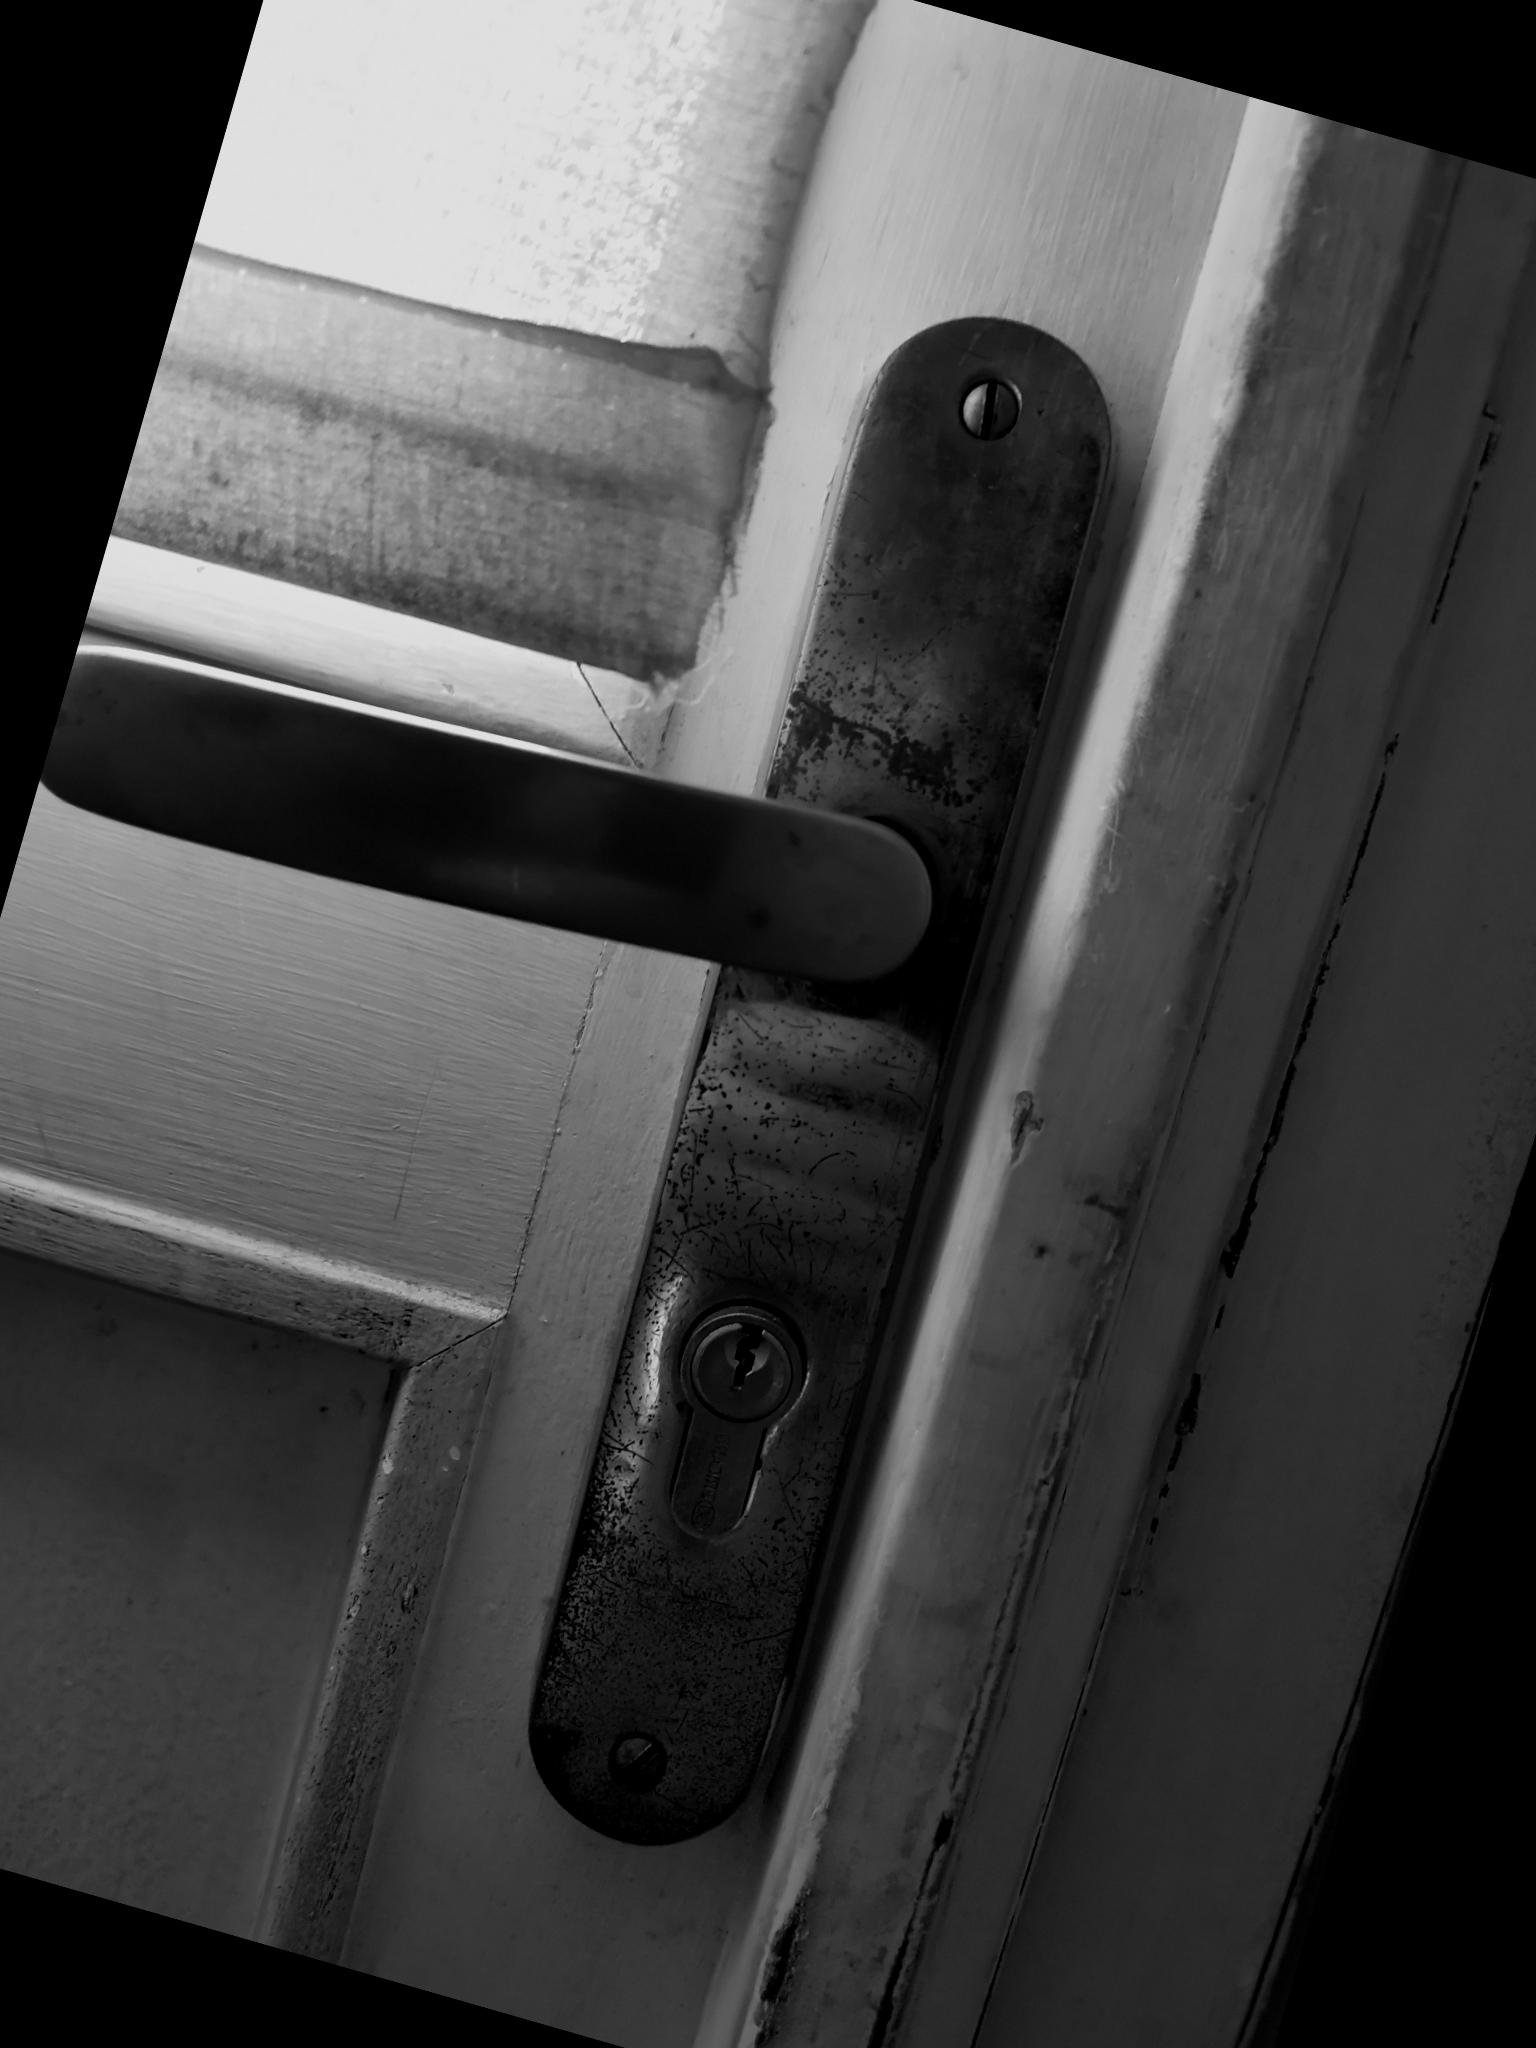slotted: (592, 1724, 684, 1813), (944, 363, 1033, 453)
